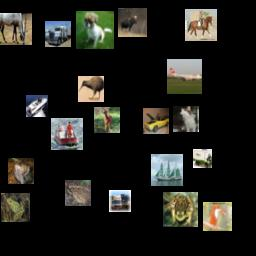airplane: (167, 59, 202, 94)
automobile: (143, 108, 169, 134)
bird: (203, 202, 232, 231), (78, 76, 104, 102)
cat: (173, 106, 199, 132)
deer: (118, 8, 147, 37), (94, 107, 120, 133)
dog: (76, 11, 114, 49)
frog: (163, 192, 198, 227), (1, 193, 30, 222), (65, 180, 91, 206), (8, 158, 34, 184)
ship: (151, 154, 183, 186), (51, 118, 83, 150), (26, 95, 48, 117)
truck: (45, 21, 71, 47), (109, 190, 131, 212), (193, 149, 212, 168)
